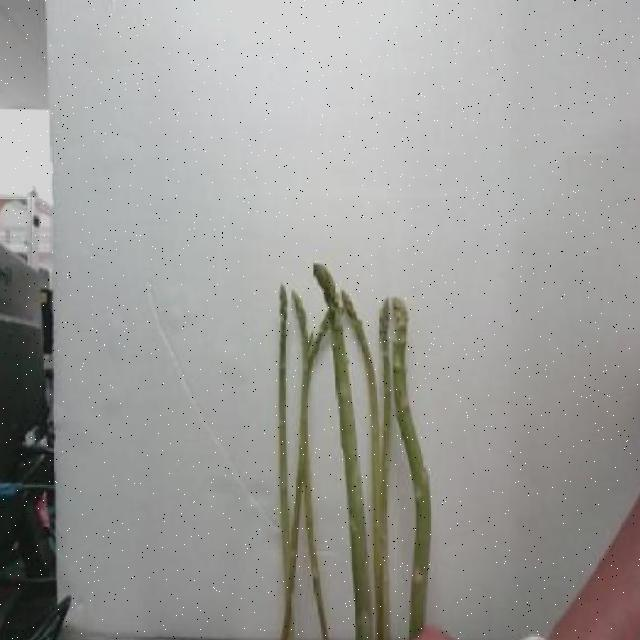aspargus: (310, 261, 379, 638), (389, 299, 434, 634)
